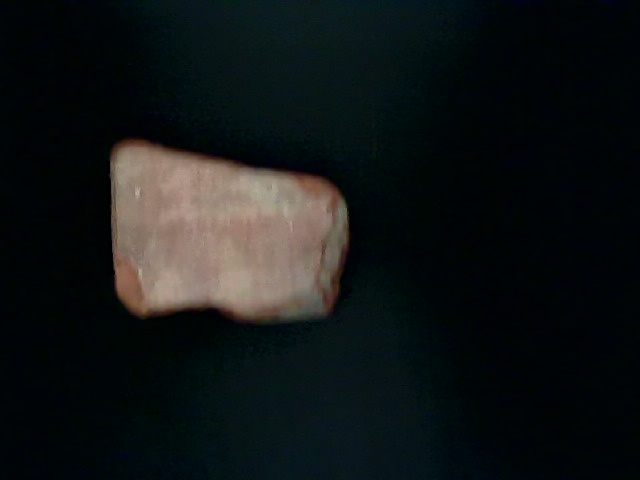KHSLJ: (161, 110, 475, 410)
